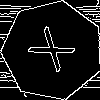X: (27, 25, 85, 80)
